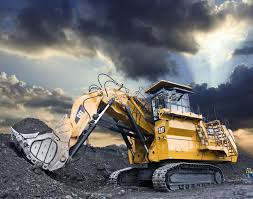bulldozer: (8, 80, 242, 197)
